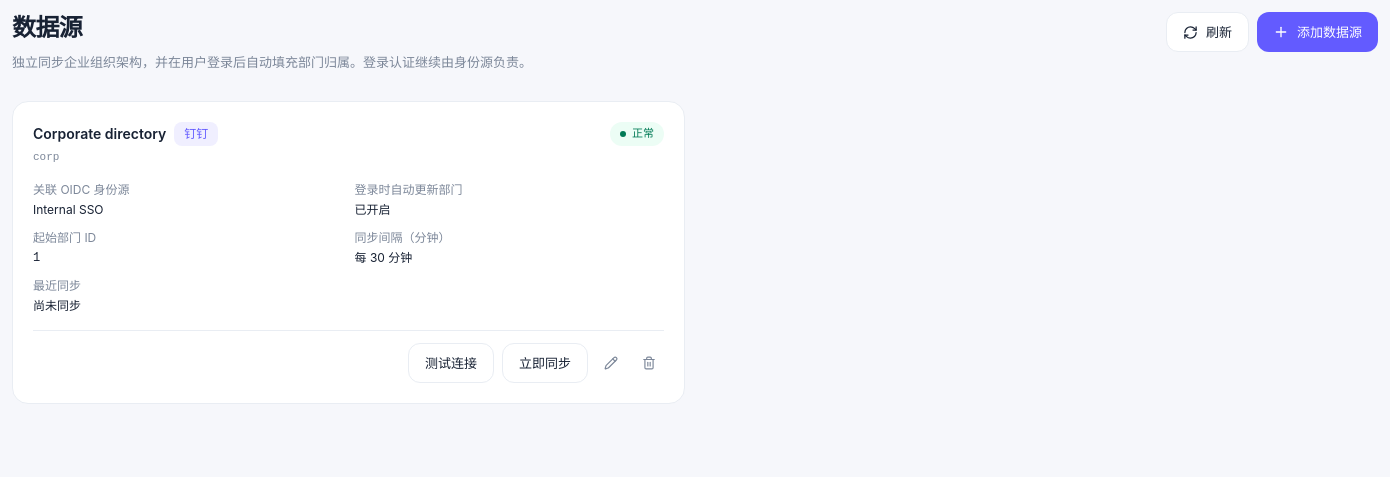
Test: organization data sources › shows independent directory controls and synchronization counts
Click the button "立即同步" at (545, 363), box [502,343,588,383]
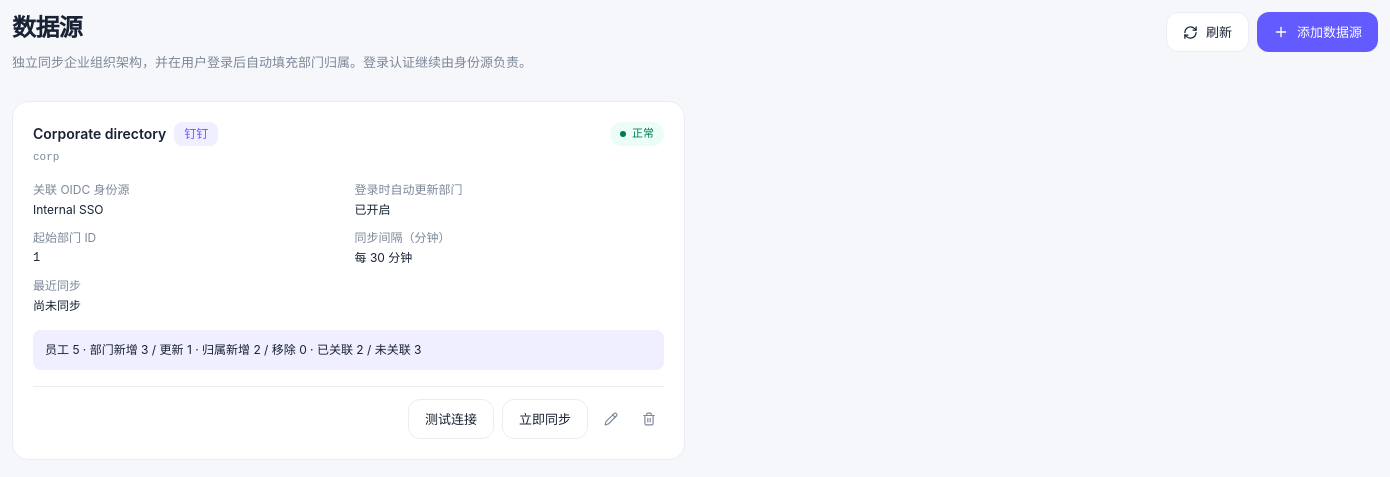
Result: the text "员工 5 · 部门新增 3 / 更新 1 · 归属新增 2 / 移除 0 · 已关联 2 / 未关联 3" is shown at [33,330,664,370]
